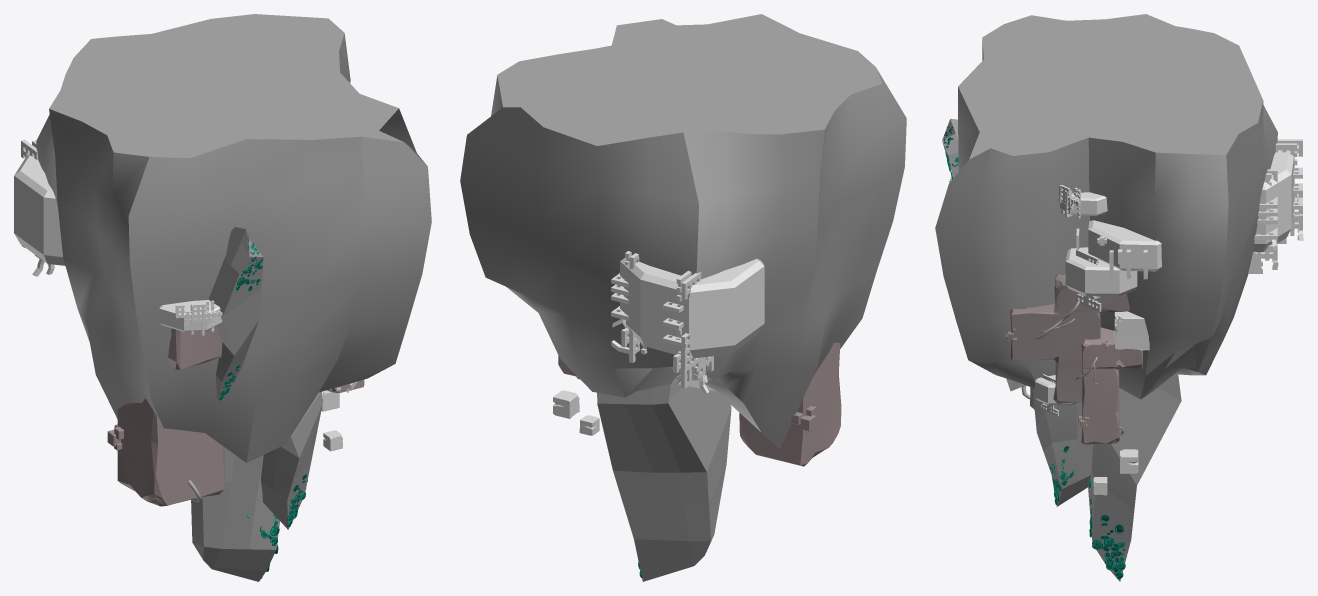
File: island_test.fbx
3 renders of one model, left to right at view 1: azimuth 30°, elevation 25°; view 2: azimuth 150°, elevation 25°; view 3: azimuth 270°, elevation 25°, orthographic. The views are drawn at different scales.
Parts seen in each view (by area): view 1: insel, crystal, beton, heyagons1, gitter, shrooms; view 2: insel, crystal, heyagons1, beton, gitter; view 3: insel, beton, crystal, heyagons1, gitter, shrooms.
Boxes of the visible parts, x1,y1,x2,y2 form: insel: (36,14,431,462); crystal: (191,227,322,581); beton: (117,326,364,506); heyagons1: (14,154,222,332); gitter: (21,139,357,392); shrooms: (219,234,307,578); insel: (460,14,906,449); crystal: (597,383,731,581); heyagons1: (620,257,764,358); beton: (553,342,841,466); gitter: (611,251,713,393); insel: (935,14,1277,399); beton: (1010,274,1149,495); crystal: (942,118,1181,581); heyagons1: (1035,150,1294,405); gitter: (949,139,1303,416); shrooms: (943,126,1125,579).
Size of the model in its own units: 848 by 1336 by 893.
